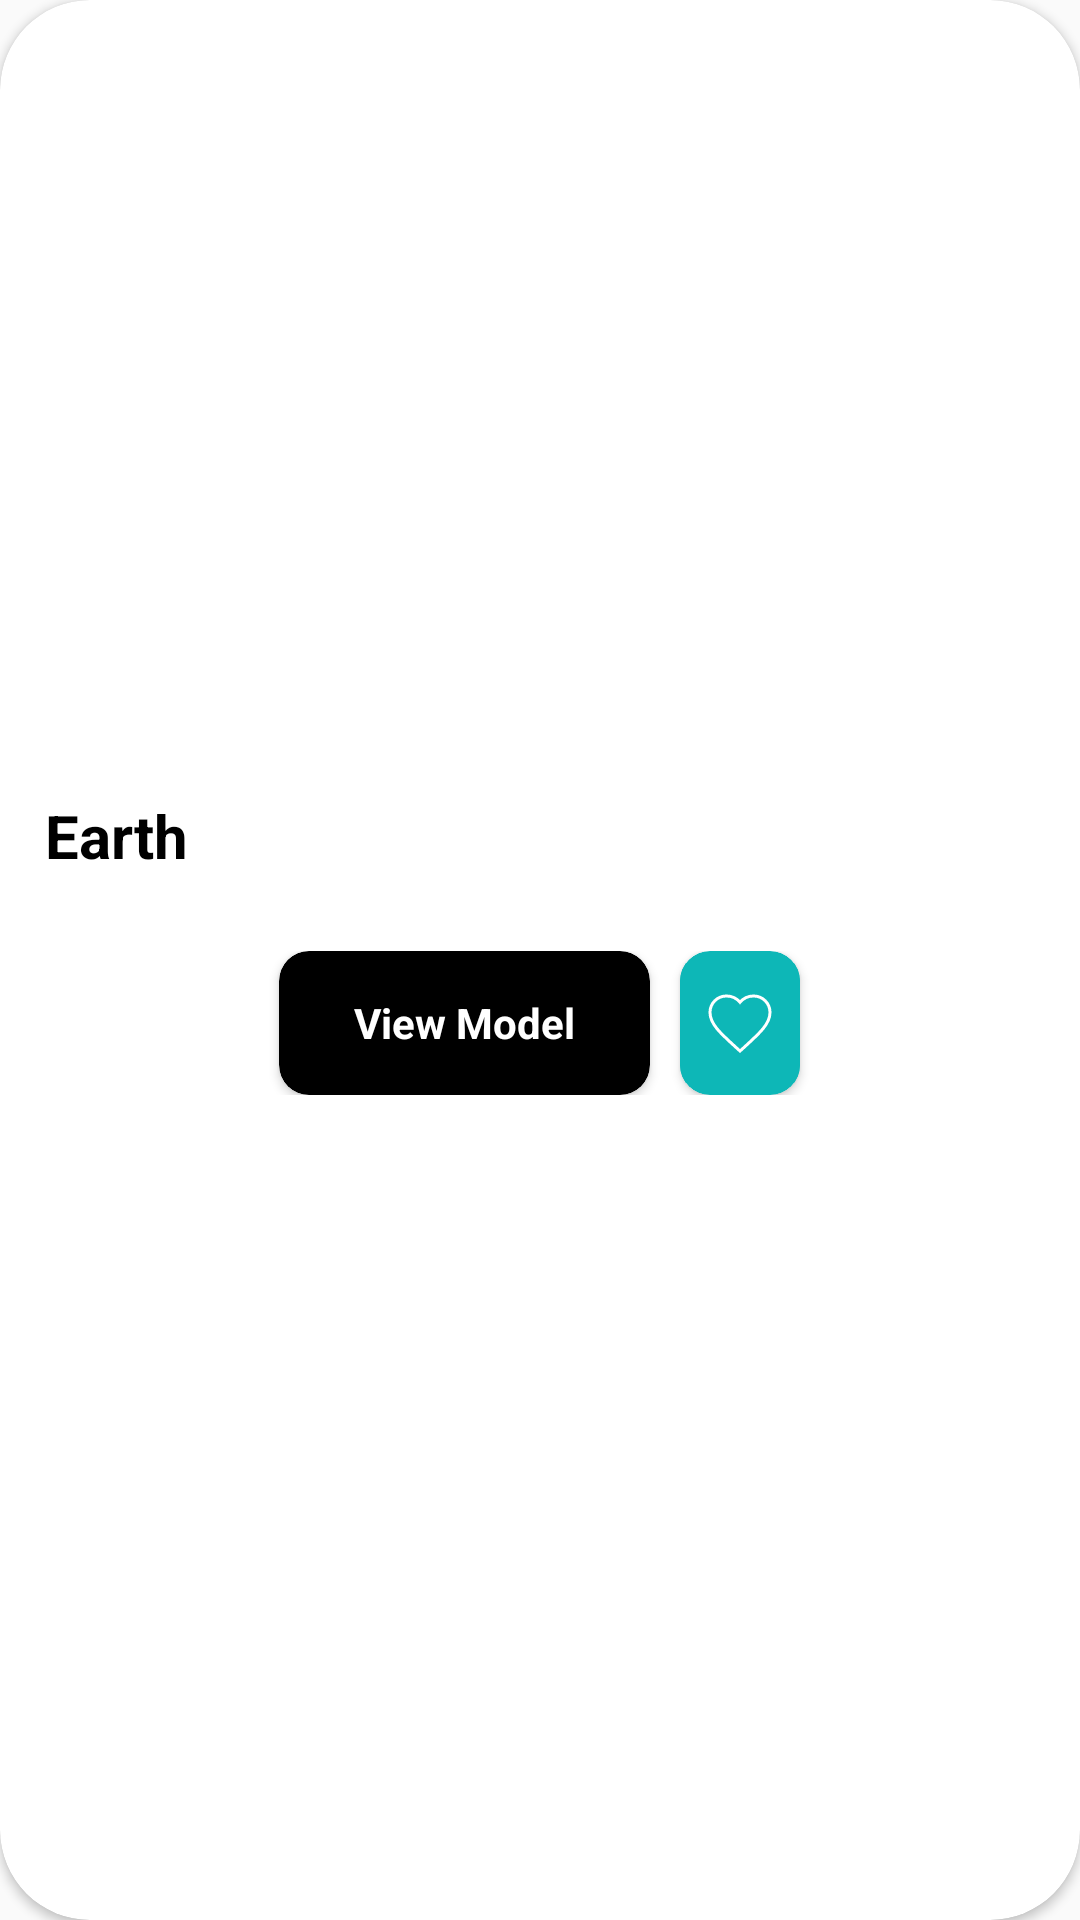

Icons on this 1080 × 1920 Android screen, each with the point to tap as [x,y]:
like: [740,1023]
